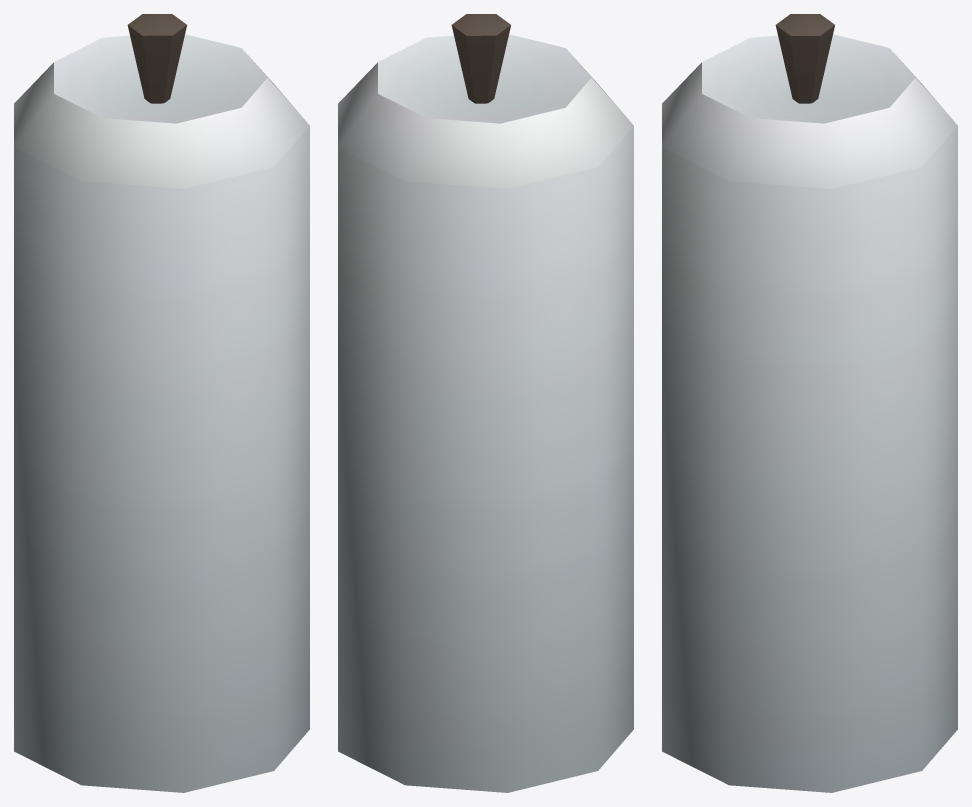
File: kay-vela.gltf
The picture shows the model from 3 angles, left to right: view 1: azimuth 30°, elevation 25°; view 2: azimuth 150°, elevation 25°; view 3: azimuth 270°, elevation 25°; orthographic projection.
Parts seen in each view (by area): view 1: candle; view 2: candle; view 3: candle.
Boxes of the visible parts, x1,y1,x2,y2 form: candle: [14, 14, 309, 792]; candle: [338, 14, 633, 792]; candle: [662, 14, 957, 792].
Size of the model in its own units: 0.1504 by 0.3928 by 0.1482.
1 material, 1 textured.
